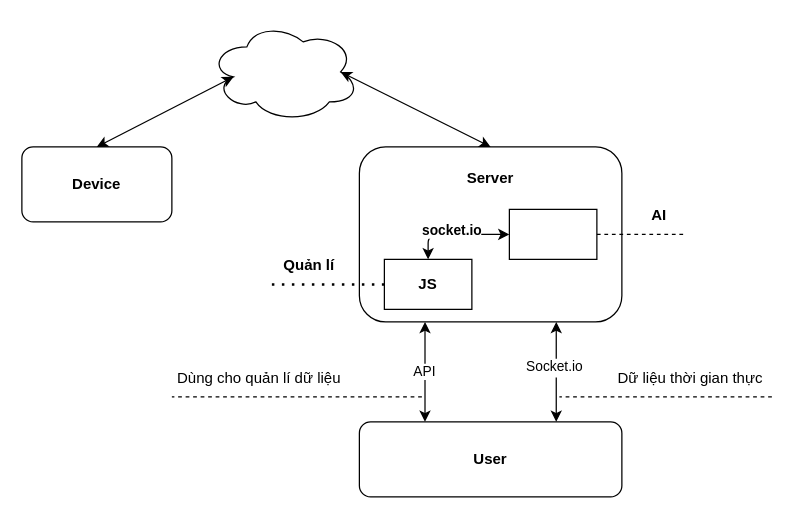
Some shapes in this 795 by 519 pixel diagram are drawn without their labels. Each missing label, with the centre of its shape:
MQTT: (x=283, y=71)
Python: (x=552, y=233)
